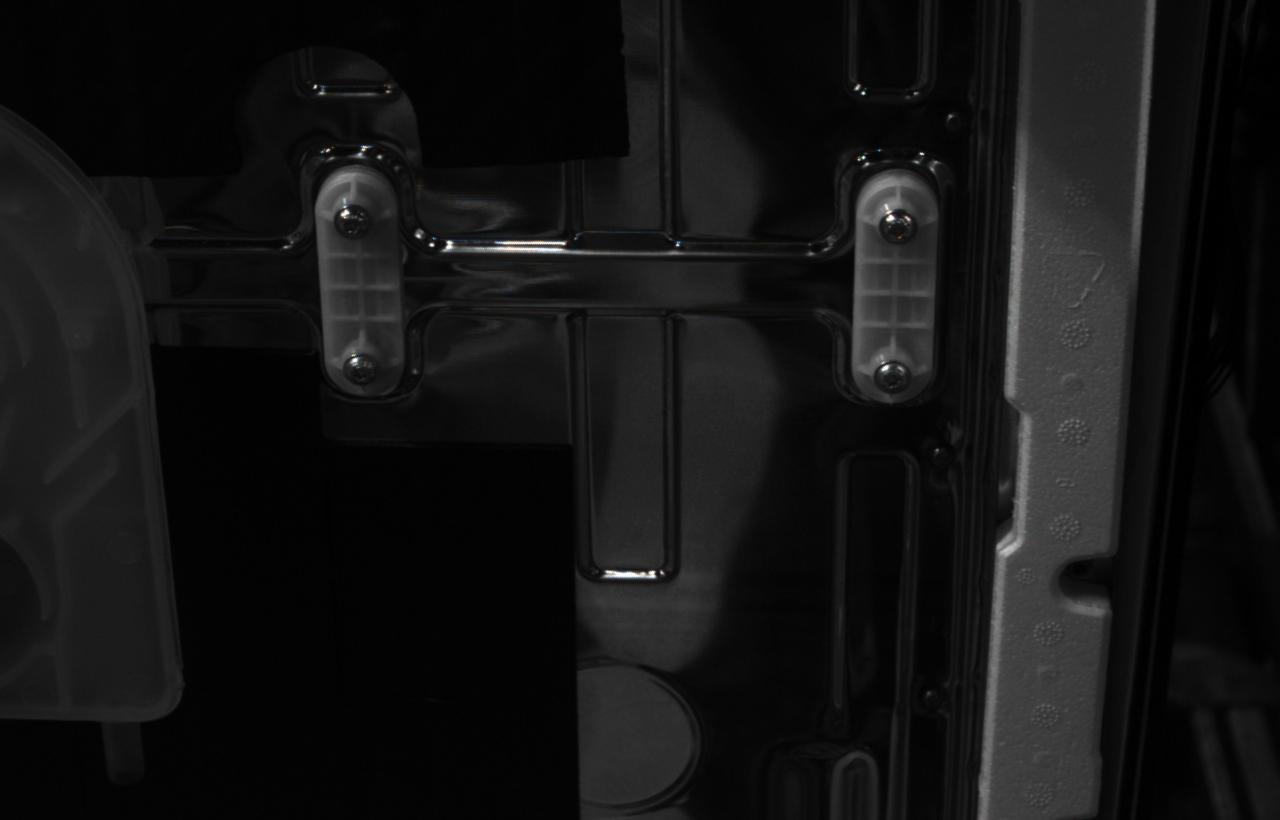vida-ok: (334, 204, 373, 240), (878, 209, 917, 245), (873, 360, 912, 395), (343, 354, 377, 387)
